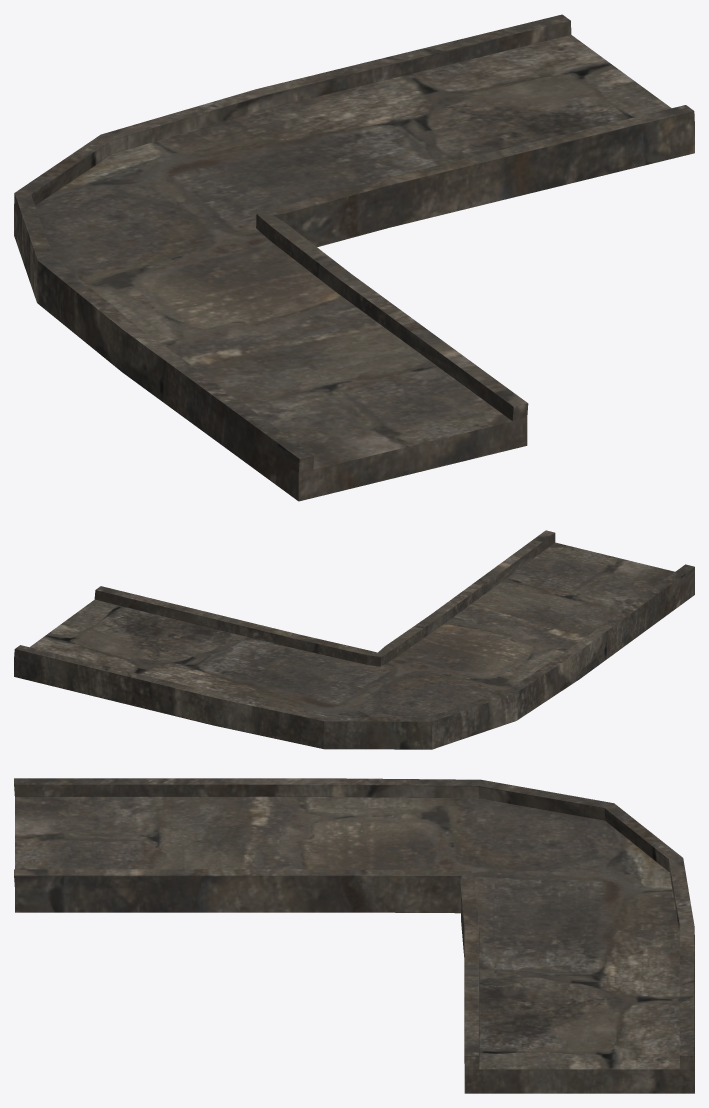
The model's file is Road_Stone_Turn.fbx.
3 views of the same model, one above another, from view 1: azimuth 30°, elevation 25°; view 2: azimuth 150°, elevation 25°; view 3: azimuth 270°, elevation 25° (orthographic). The views are drawn at different scales.
Parts seen in each view (by area): view 1: Road_Tile_Rock_Black_TurningRight; view 2: Road_Tile_Rock_Black_TurningRight; view 3: Road_Tile_Rock_Black_TurningRight.
Part boxes in pixels (box(x1,y1,x2,y2)): Road_Tile_Rock_Black_TurningRight: box(14, 14, 694, 501); Road_Tile_Rock_Black_TurningRight: box(14, 530, 694, 749); Road_Tile_Rock_Black_TurningRight: box(14, 778, 694, 1093).
Bounding box in the file's own units: 1125 × 74.08 × 1163.
Materials: 1 (1 with a texture image).
